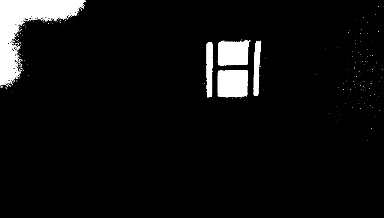H: (203, 40, 261, 95)
